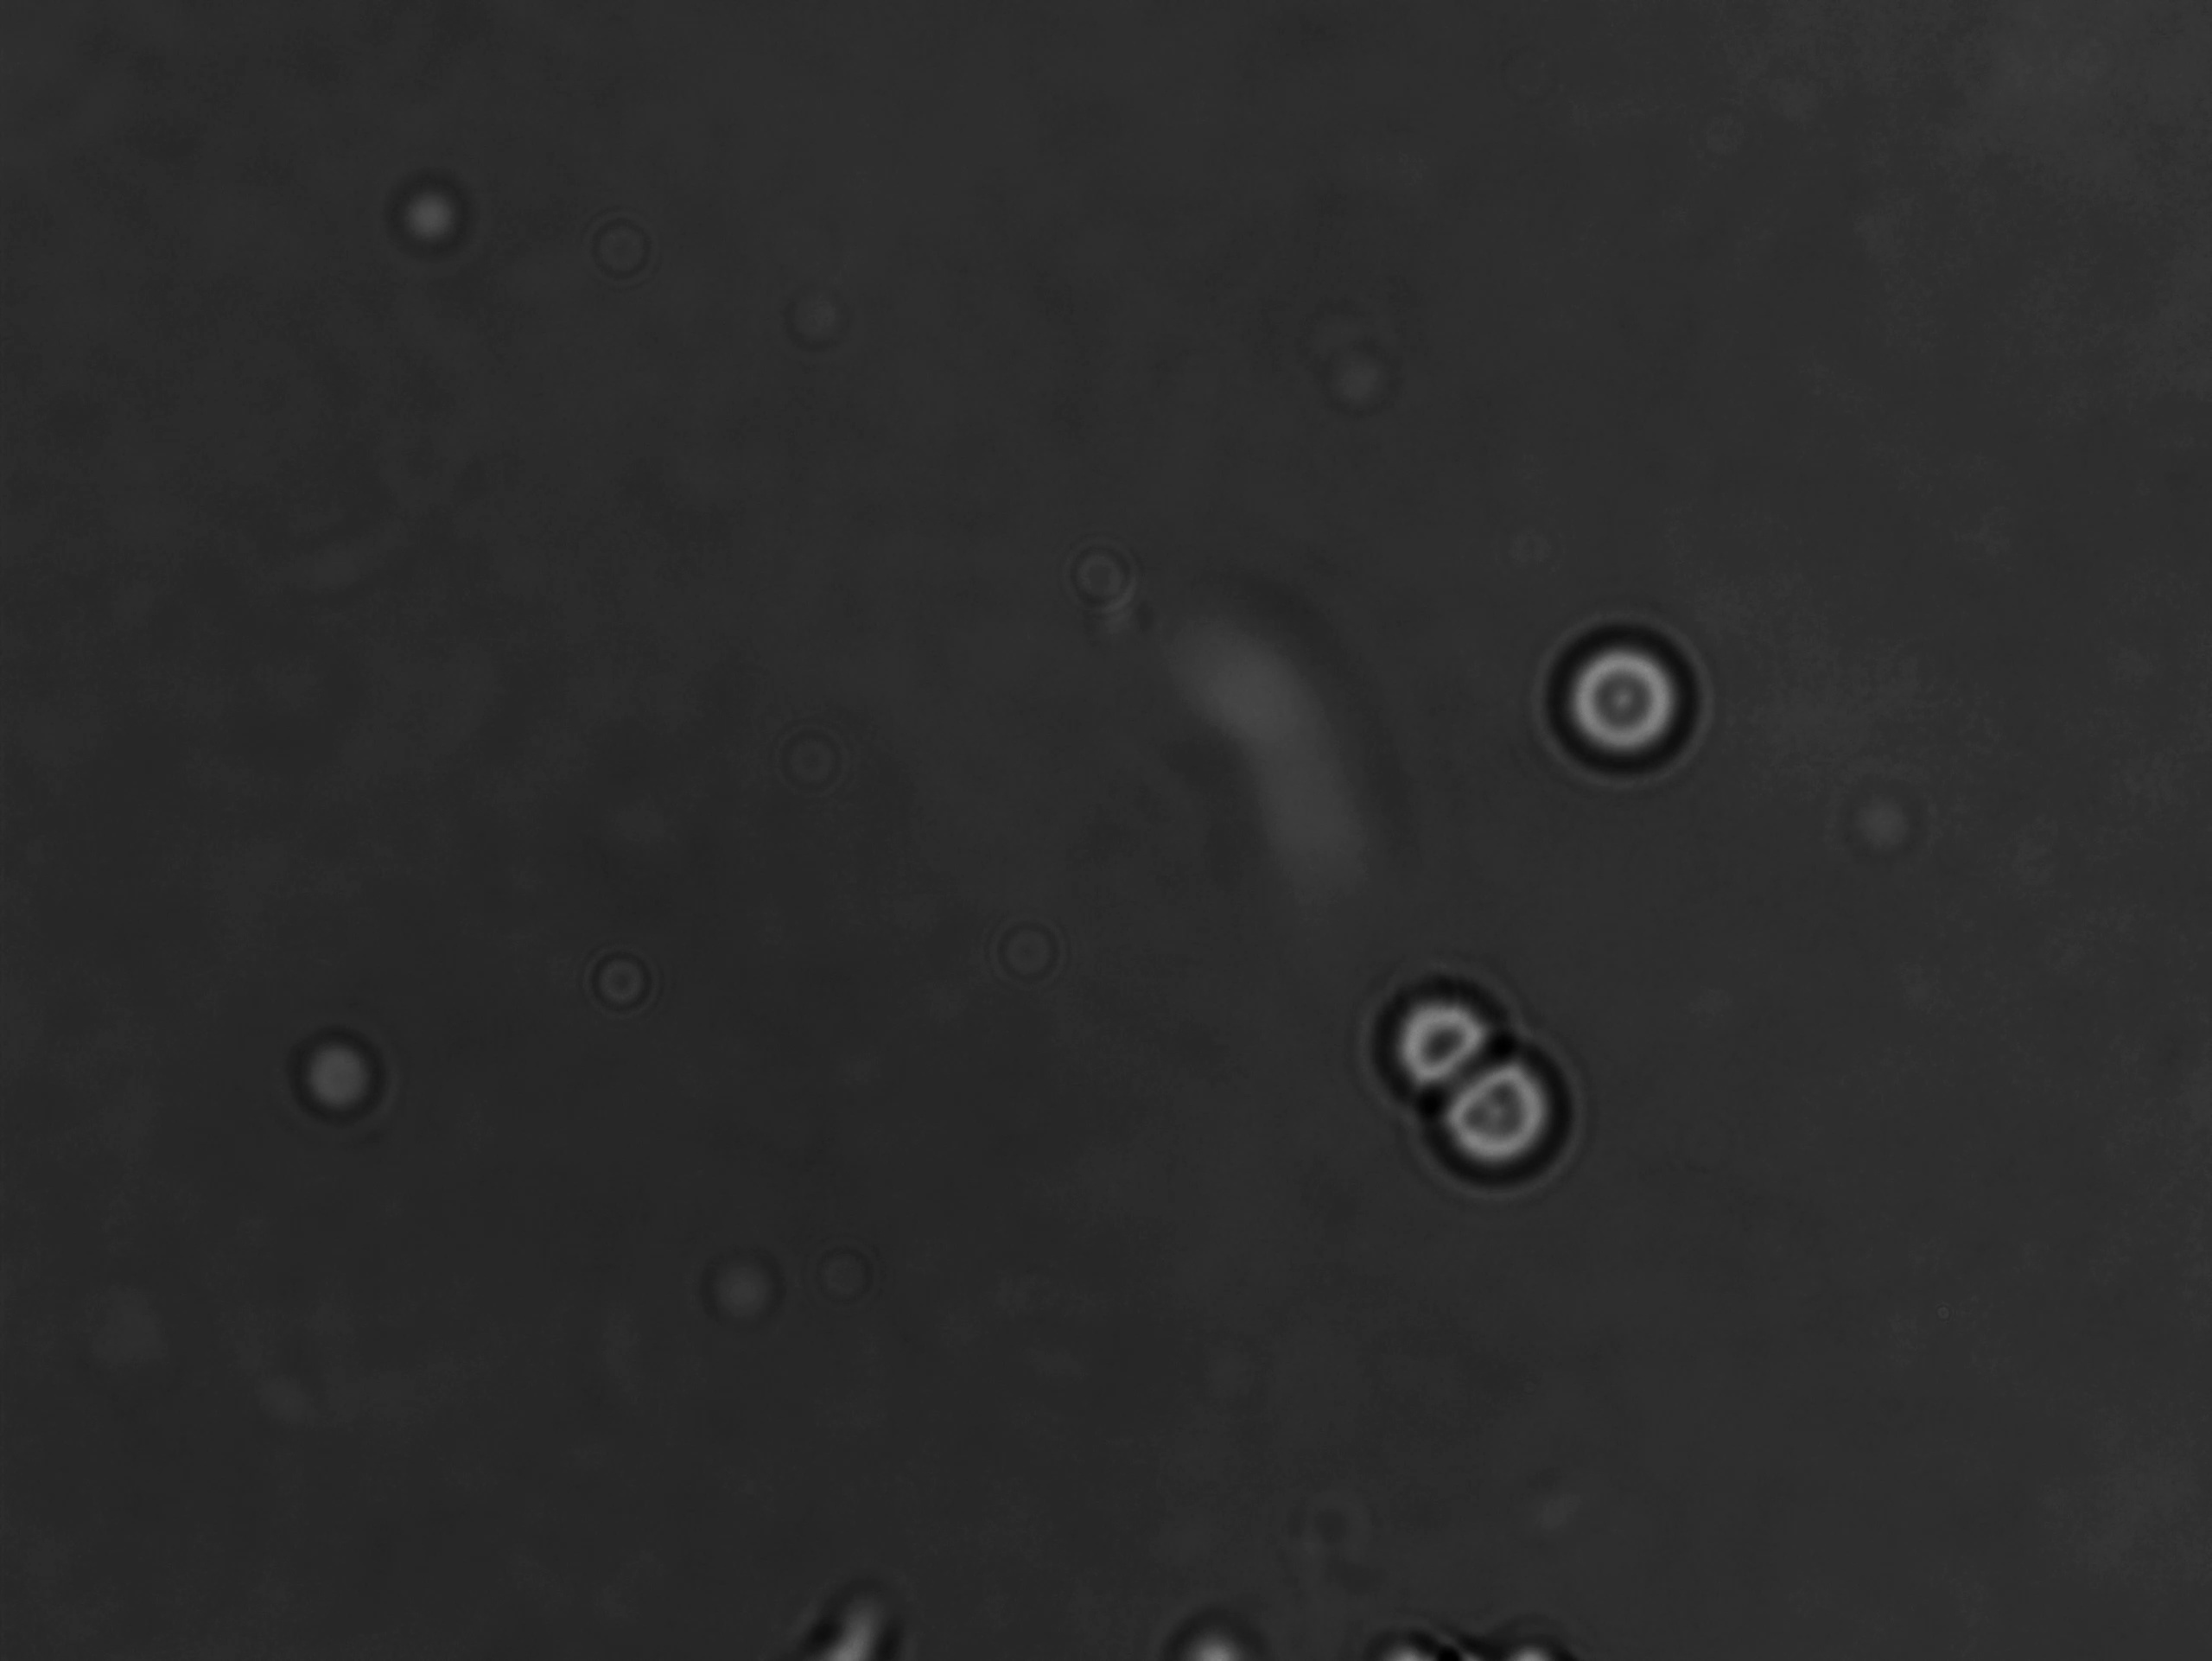depth:40: (1540, 611, 1701, 803)
